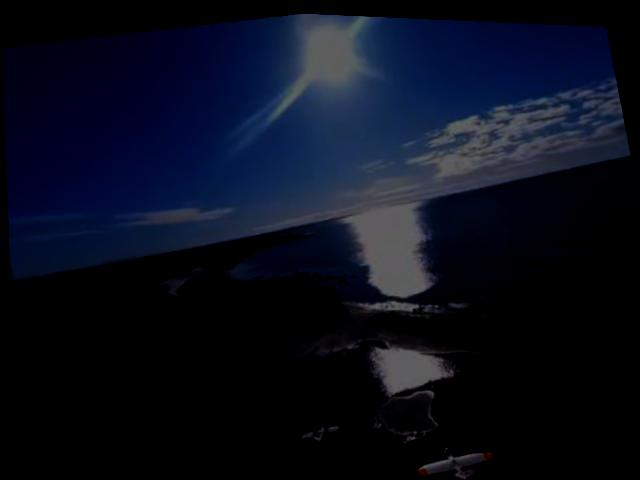uav: (406, 430, 496, 480), (295, 418, 339, 444)
